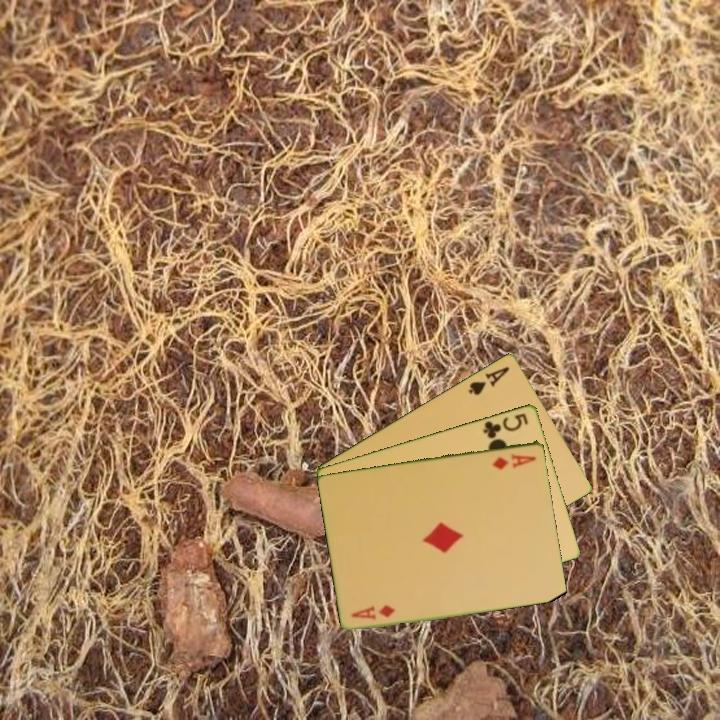5c: (479, 409, 531, 441)
Ad: (489, 450, 539, 472), (348, 601, 398, 623)
As: (465, 363, 513, 398)
